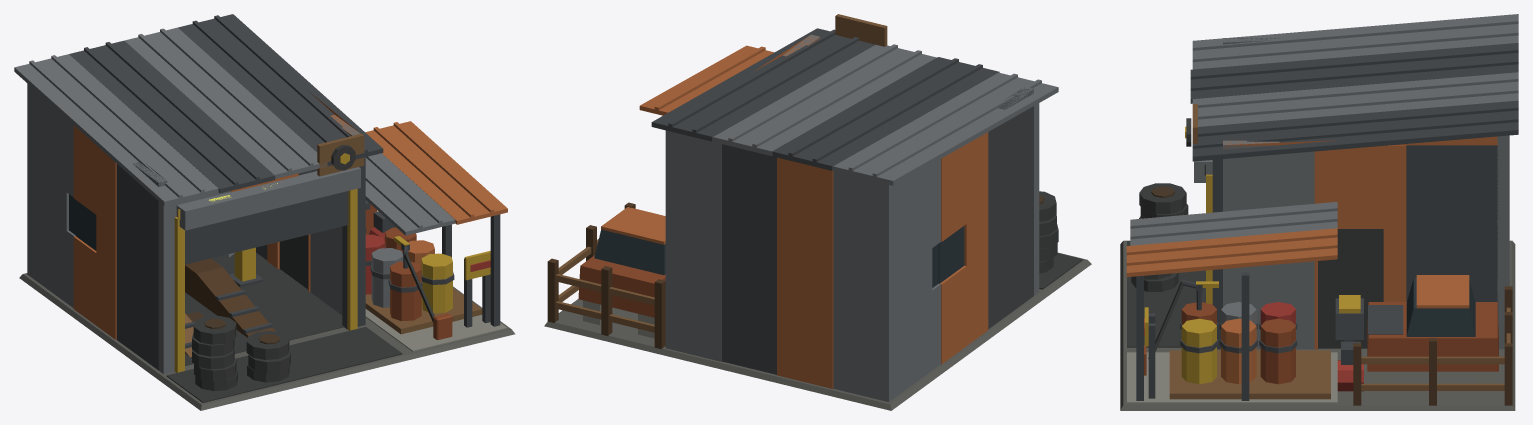
File: garage_l2.glb
The picture shows the model from 3 angles, left to right: view 1: azimuth 30°, elevation 25°; view 2: azimuth 150°, elevation 25°; view 3: azimuth 270°, elevation 25°; orthographic projection. The views are drawn at different scales.
Parts seen in each view (by area): view 1: garage_structure, garage_roof, garage_props; view 2: garage_structure, garage_roof, garage_props; view 3: garage_structure, garage_roof, garage_props.
Boxes of the visible parts, x1,y1,x2,y2 form: garage_structure: [19, 83, 515, 410]; garage_roof: [14, 14, 507, 235]; garage_props: [174, 133, 490, 391]; garage_structure: [544, 34, 1091, 410]; garage_roof: [639, 28, 1058, 185]; garage_props: [547, 14, 1058, 349]; garage_structure: [1120, 38, 1515, 410]; garage_roof: [1126, 14, 1518, 277]; garage_props: [1131, 104, 1512, 405].
Bounding box in the file's own units: 6.06 × 3.88 × 6.05.
